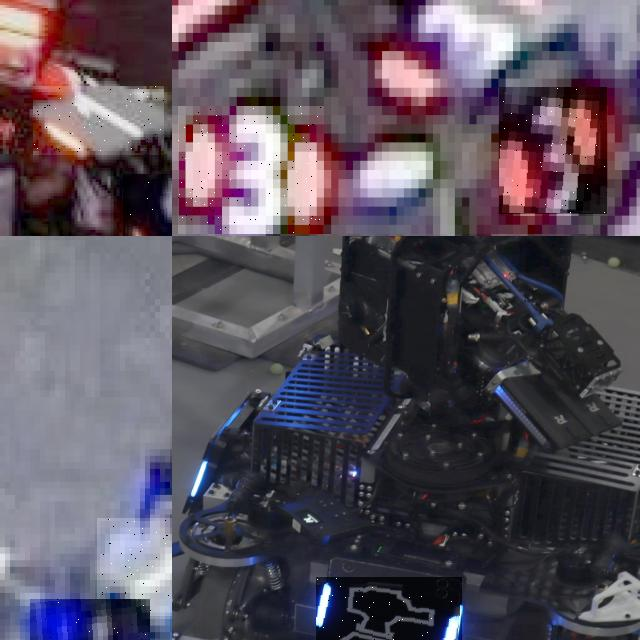B1: (97, 518, 172, 616), (30, 599, 150, 640)
Bs: (316, 576, 462, 640)
R1: (33, 86, 164, 156), (122, 173, 172, 236)
R3: (178, 106, 324, 234), (499, 88, 607, 216)
